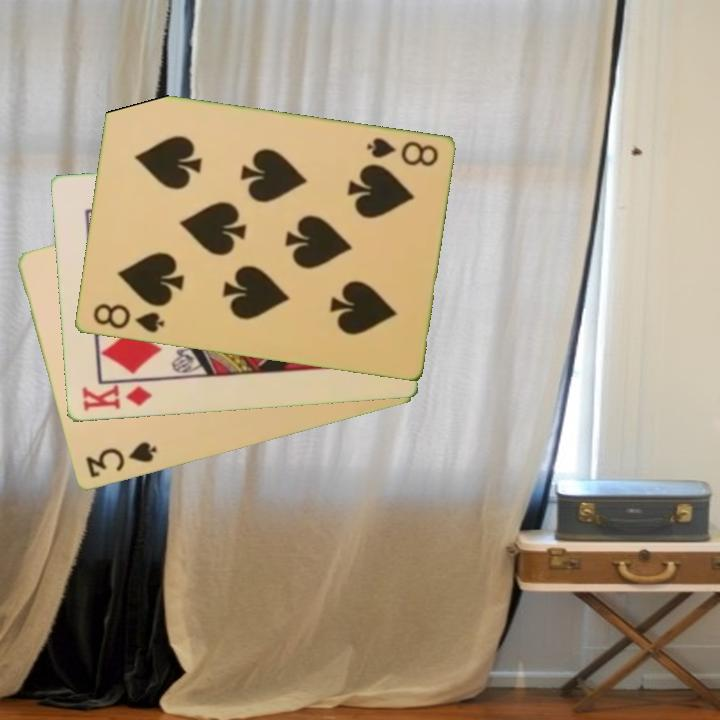3s: (82, 438, 160, 481)
8s: (362, 134, 441, 170), (89, 300, 167, 336)
Kd: (78, 382, 155, 414)
